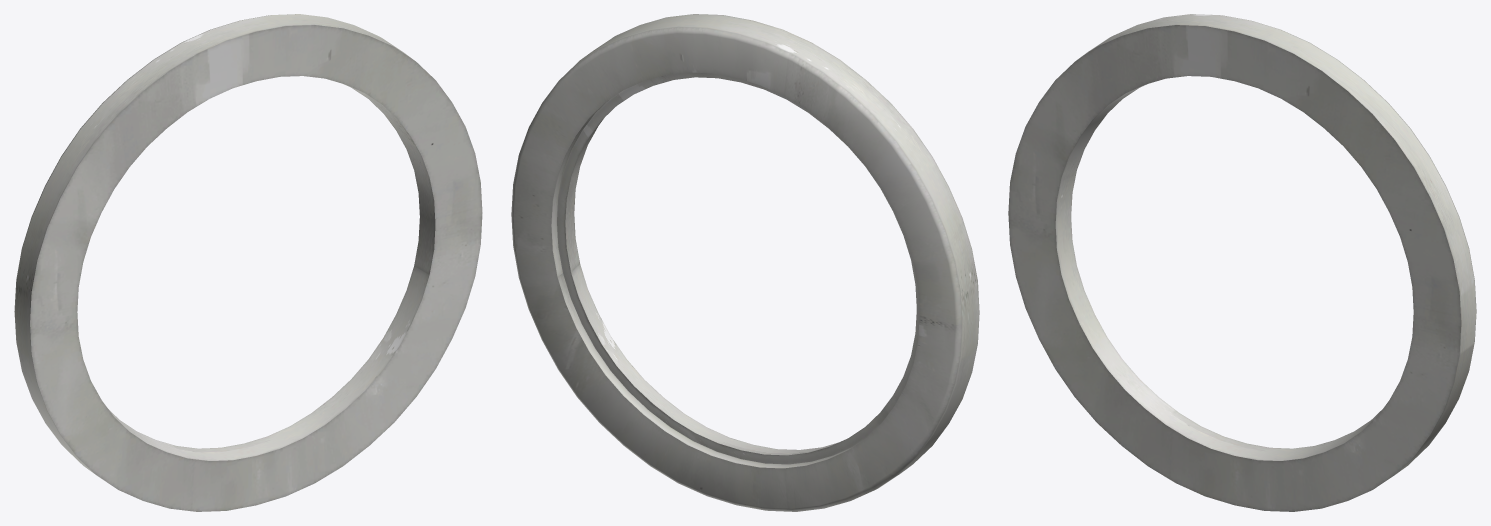
Rendered from props_farm_sewer_cap001a.glb.
3 views of the same model, side by side, from view 1: azimuth 30°, elevation 25°; view 2: azimuth 150°, elevation 25°; view 3: azimuth 330°, elevation 25° (orthographic).
Parts seen in each view (by area): view 1: models/props_farm/sewer_cap001a; view 2: models/props_farm/sewer_cap001a; view 3: models/props_farm/sewer_cap001a.
Boxes of the visible parts, <box> form: models/props_farm/sewer_cap001a: <box>14,14,482,511</box>; models/props_farm/sewer_cap001a: <box>511,14,979,511</box>; models/props_farm/sewer_cap001a: <box>1008,14,1476,511</box>.
Size of the model in its own units: 238 by 238 by 17.01.
Materials: 1 (1 with a texture image).
